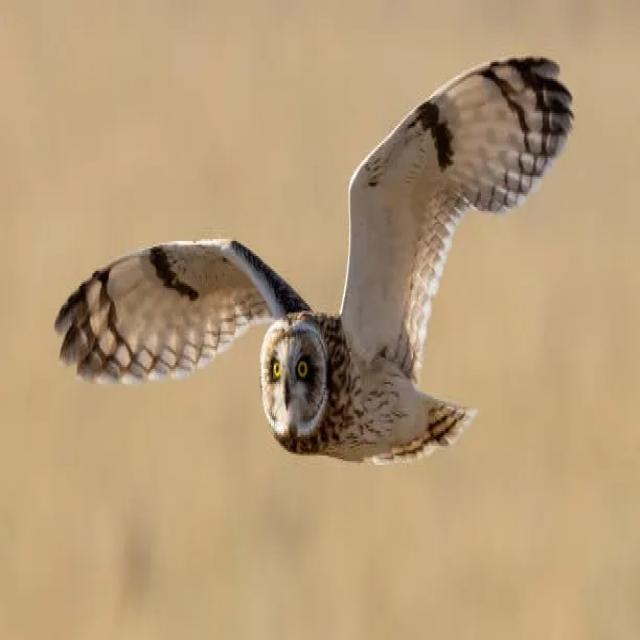owl: (52, 48, 590, 474)
